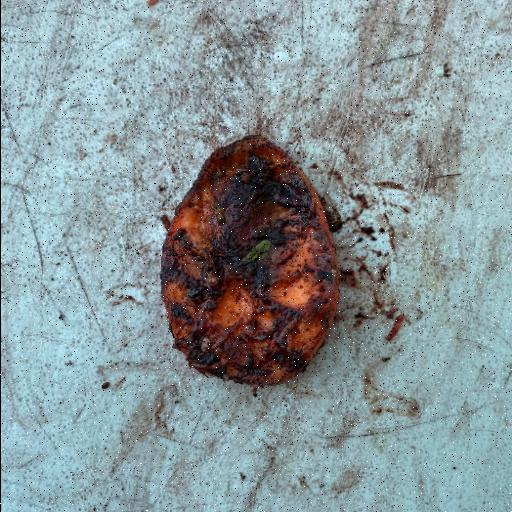Waste: (158, 133, 340, 388)
